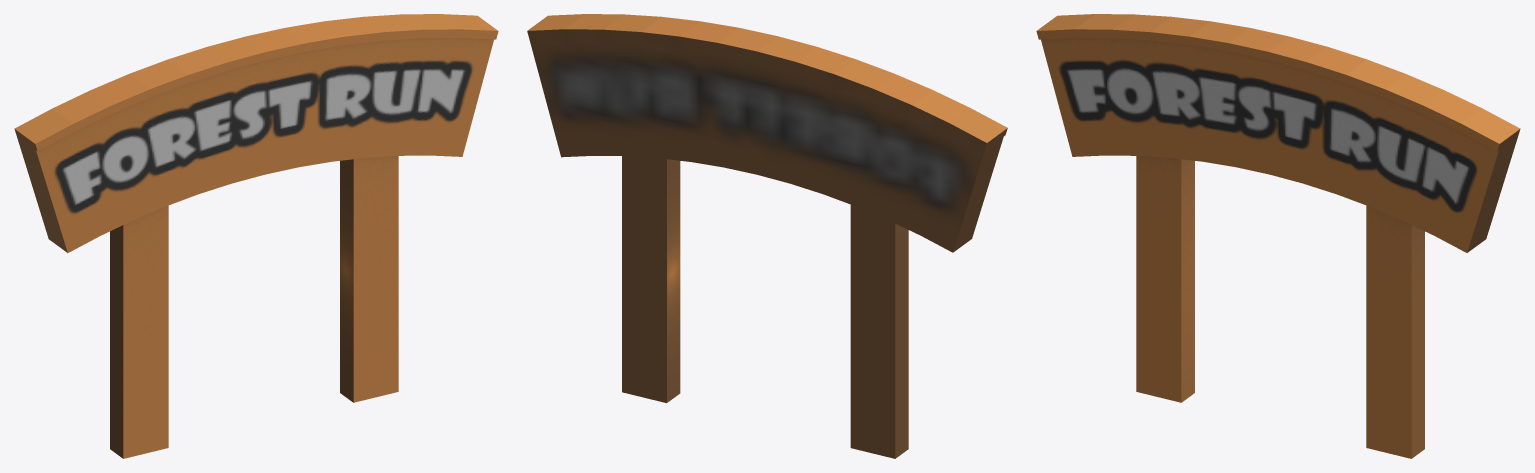
Rendered from tafel.fbx.
3 renders of one model, left to right at view 1: azimuth 30°, elevation 25°; view 2: azimuth 150°, elevation 25°; view 3: azimuth 330°, elevation 25°, orthographic.
Visible parts, largest first — view 1: tafel; view 2: tafel; view 3: tafel.
Boxes of the visible parts, left/top/right/bottom form: tafel: left=14, top=14, right=498, bottom=458; tafel: left=527, top=14, right=1007, bottom=458; tafel: left=1036, top=14, right=1520, bottom=458.
Size of the model in its own units: 2239 by 1746 by 176.
